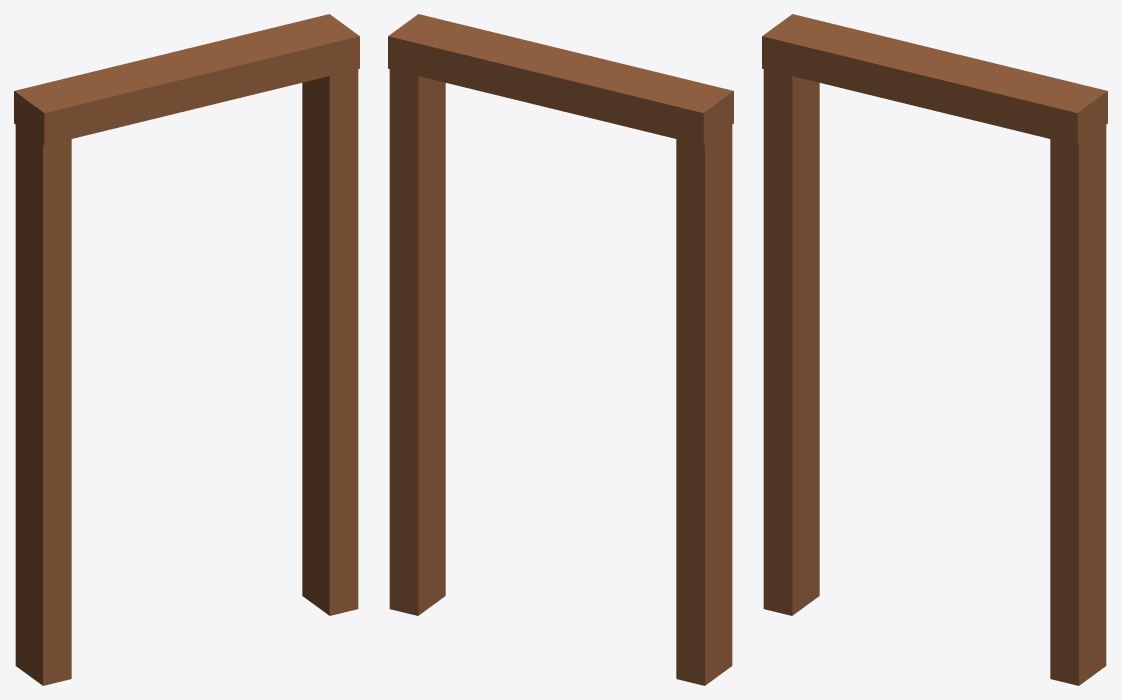
Rendered from door_frame.fbx.
The picture shows the model from 3 angles, left to right: view 1: azimuth 30°, elevation 25°; view 2: azimuth 150°, elevation 25°; view 3: azimuth 330°, elevation 25°; orthographic projection.
Visible parts, largest first — view 1: door_frame.022; view 2: door_frame.022; view 3: door_frame.022.
Part boxes in pixels (<box>): door_frame.022: <box>14,14,359,685</box>; door_frame.022: <box>388,14,733,685</box>; door_frame.022: <box>762,14,1107,685</box>.
Bounding box in the file's own units: 132 × 230 × 22.
